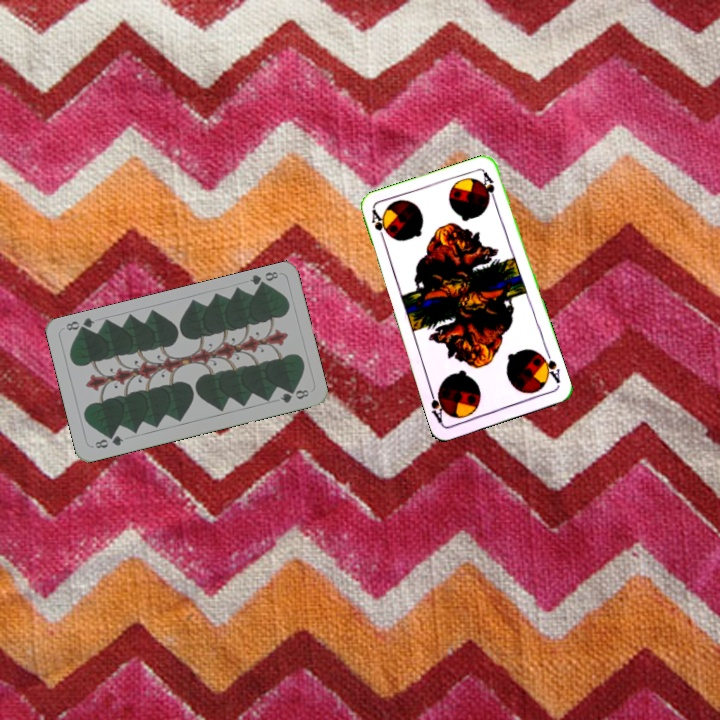G8: (246, 267, 281, 291), (91, 431, 126, 451)
SA: (536, 347, 563, 386), (367, 206, 389, 246)
